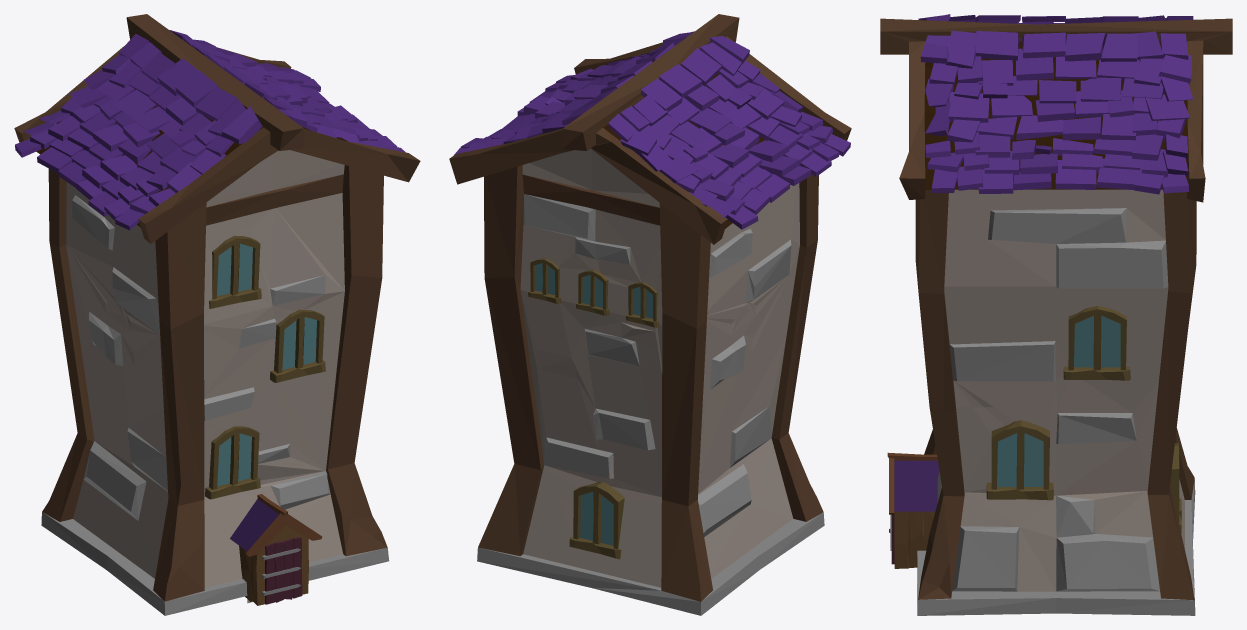
File: TowerHouse.fbx
3 renders of one model, left to right at view 1: azimuth 30°, elevation 25°; view 2: azimuth 150°, elevation 25°; view 3: azimuth 270°, elevation 25°, orthographic. The views are drawn at different scales.
Visible parts, largest first — view 1: House.001_Cube.005, Cube.006, DoorFrame.001_Cube.009, WindowsBase.003, WindowsBase.002, WindowsBase.004, Door; view 2: House.001_Cube.005, Cube.006, WindowsBase.005, WindowsBase.006, WindowsBase.008, WindowsBase.007; view 3: House.001_Cube.005, Cube.006, DoorFrame.001_Cube.009, WindowsBase, WindowsBase.001, WindowsBase.005.
Boxes of the visible parts, x1,y1,x2,y2 form: House.001_Cube.005: [14, 14, 420, 615]; Cube.006: [15, 30, 405, 230]; DoorFrame.001_Cube.009: [230, 494, 322, 605]; WindowsBase.003: [270, 309, 325, 382]; WindowsBase.002: [205, 426, 260, 499]; WindowsBase.004: [209, 235, 261, 308]; Door: [262, 537, 302, 604]; House.001_Cube.005: [449, 14, 851, 615]; Cube.006: [453, 31, 850, 229]; WindowsBase.005: [569, 482, 624, 559]; WindowsBase.006: [576, 270, 609, 316]; WindowsBase.008: [528, 258, 561, 304]; WindowsBase.007: [626, 282, 658, 327]; House.001_Cube.005: [880, 18, 1232, 615]; Cube.006: [918, 14, 1193, 194]; DoorFrame.001_Cube.009: [887, 452, 939, 568]; WindowsBase: [986, 420, 1053, 500]; WindowsBase.001: [1063, 306, 1130, 380]; WindowsBase.005: [1170, 442, 1181, 533].
Size of the model in its own units: 14.65 by 22.9 by 13.48.
